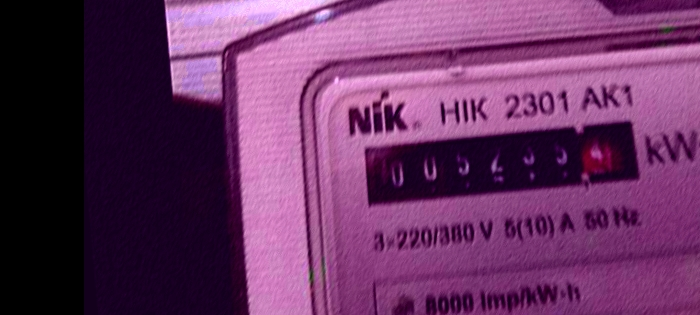0: (422, 151, 444, 186), (390, 158, 411, 191)
2: (487, 143, 511, 178)
3: (519, 137, 546, 172)
4: (588, 132, 613, 169)
5: (553, 134, 578, 171), (455, 147, 477, 181)
screen: (349, 108, 657, 221)
